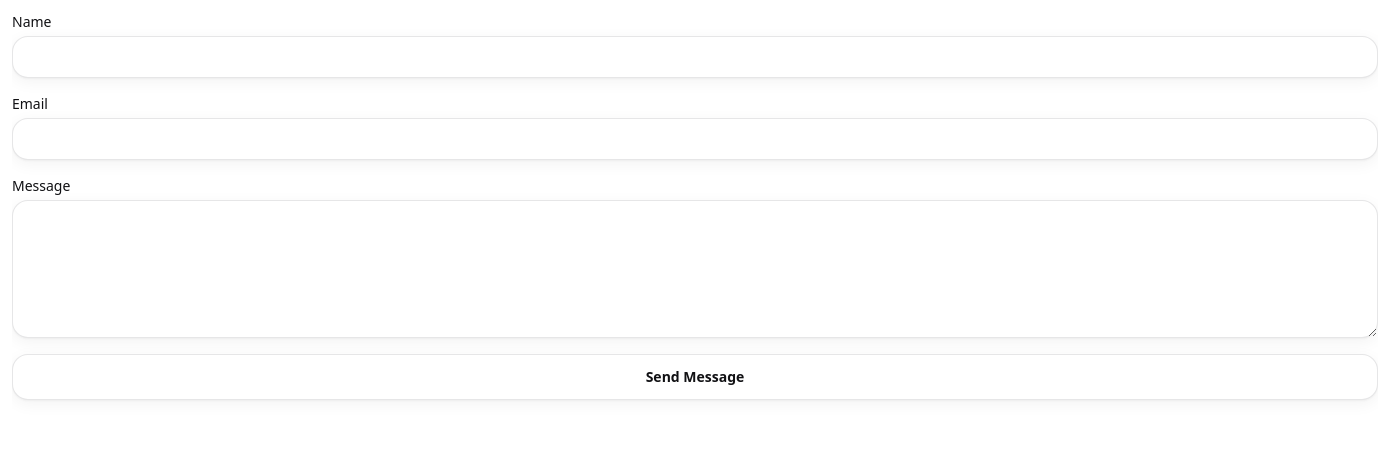
Test: ContactForm › submits and shows a success message on a valid submission
Step 1. Type "Jane" into the field labelled "Name" → coordinates (695, 57), box 12,36 -> 1378,78
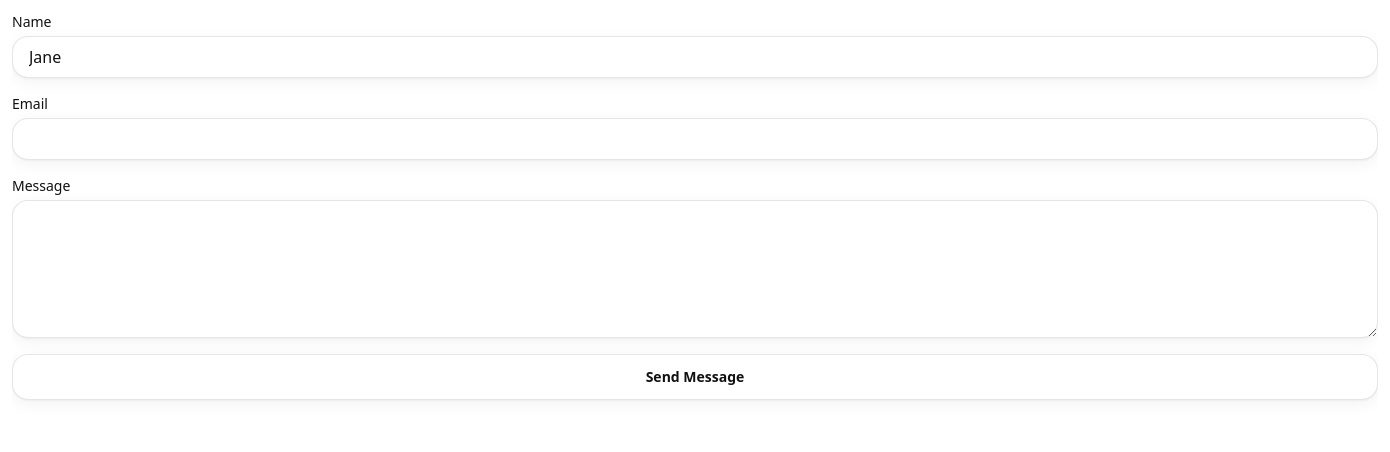
Step 2. Type "jane@example.com" into the field labelled "Email" → coordinates (695, 139), box 12,118 -> 1378,160
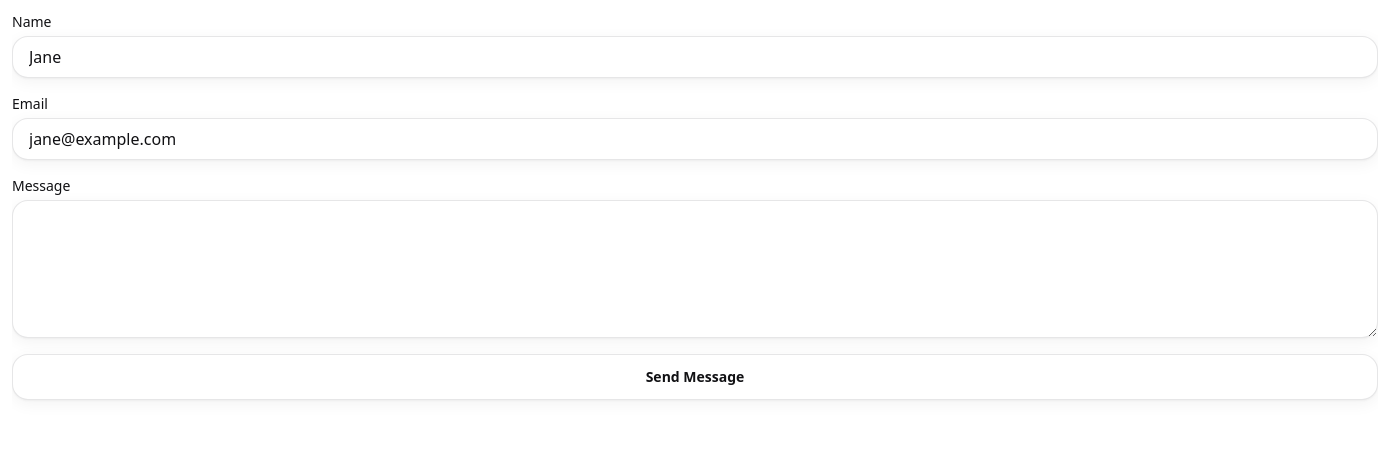
Step 3. Type "Hello there" into the text box labelled "Message" → coordinates (695, 269), box 12,200 -> 1378,338
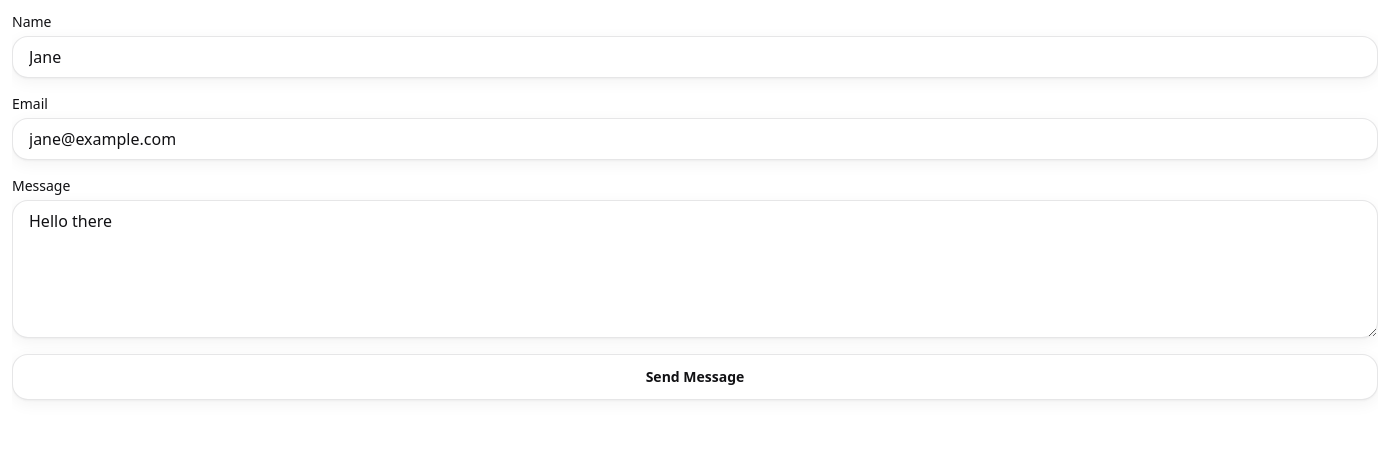
Step 4. Click the button "Send Message" → coordinates (695, 377), box 12,354 -> 1378,400
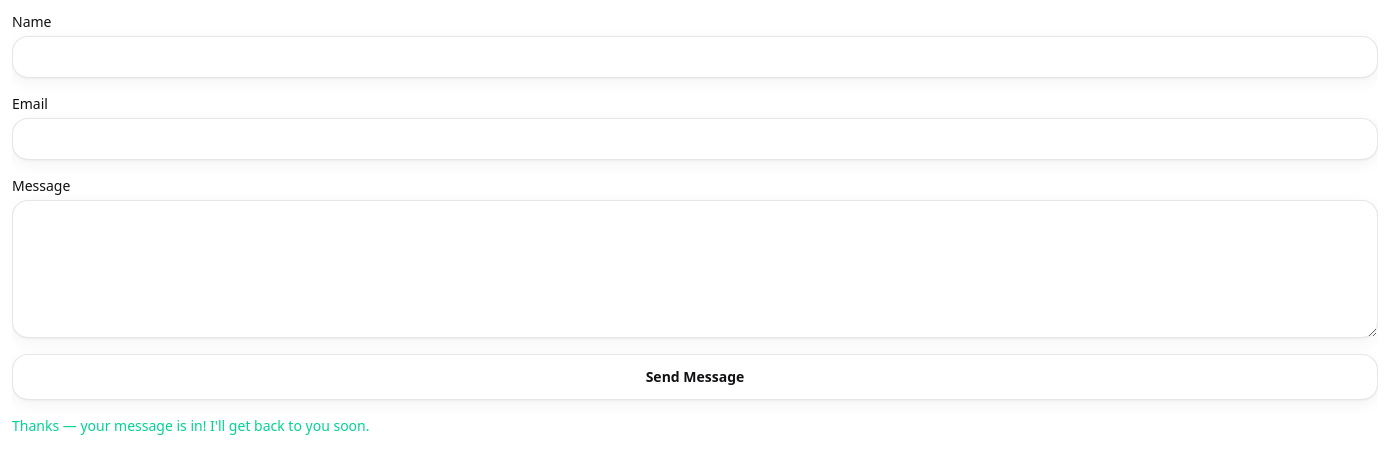
Expected: the message shows "Thanks", 12,416 -> 370,435
